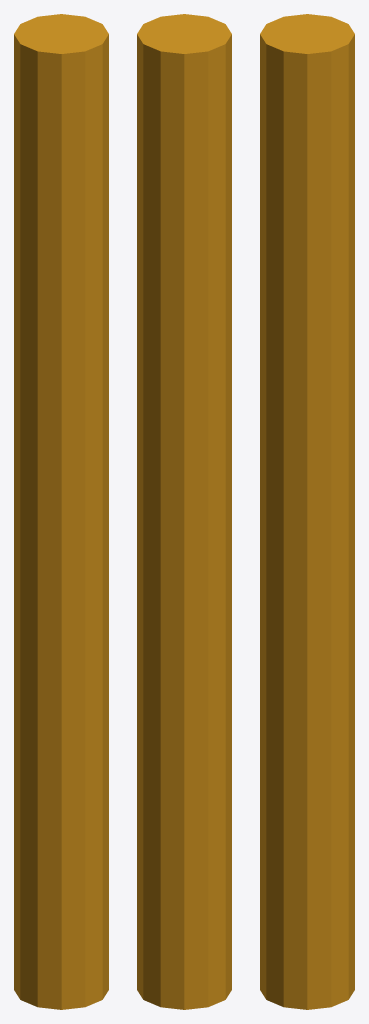
File: liquid.obj
3 renders of one model, left to right at view 1: azimuth 30°, elevation 25°; view 2: azimuth 150°, elevation 25°; view 3: azimuth 330°, elevation 25°, orthographic.
Bounding box in the file's own units: 0.09 × 1 × 0.09.
